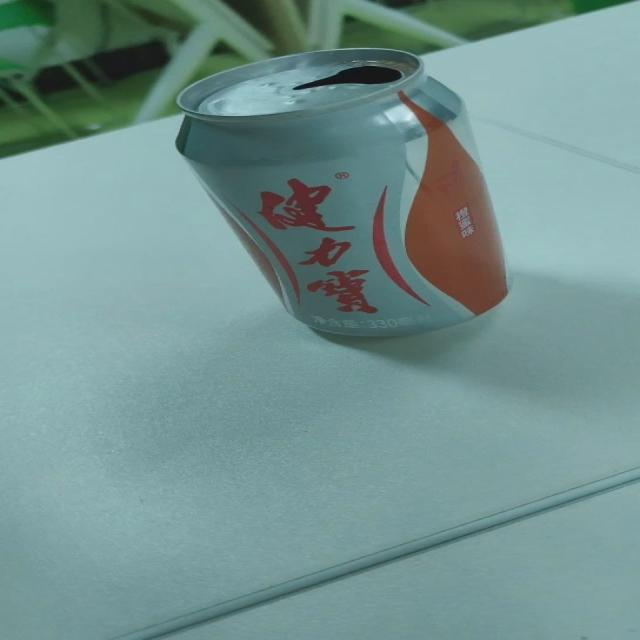can: (179, 47, 507, 339)
